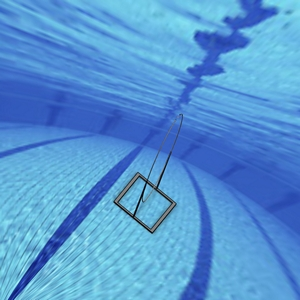circle: (113, 111, 187, 234)
